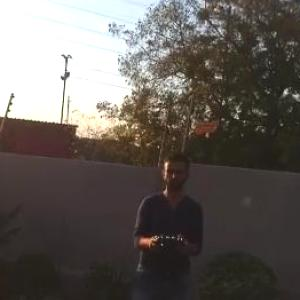follow: (125, 143, 209, 299)
